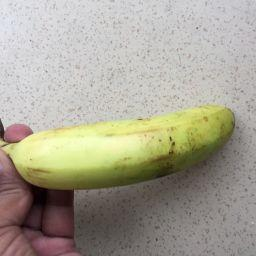banana: (0, 102, 238, 192)
